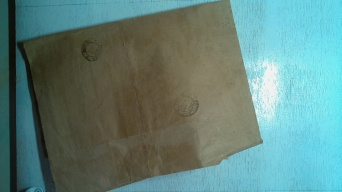l: (22, 1, 265, 192)
